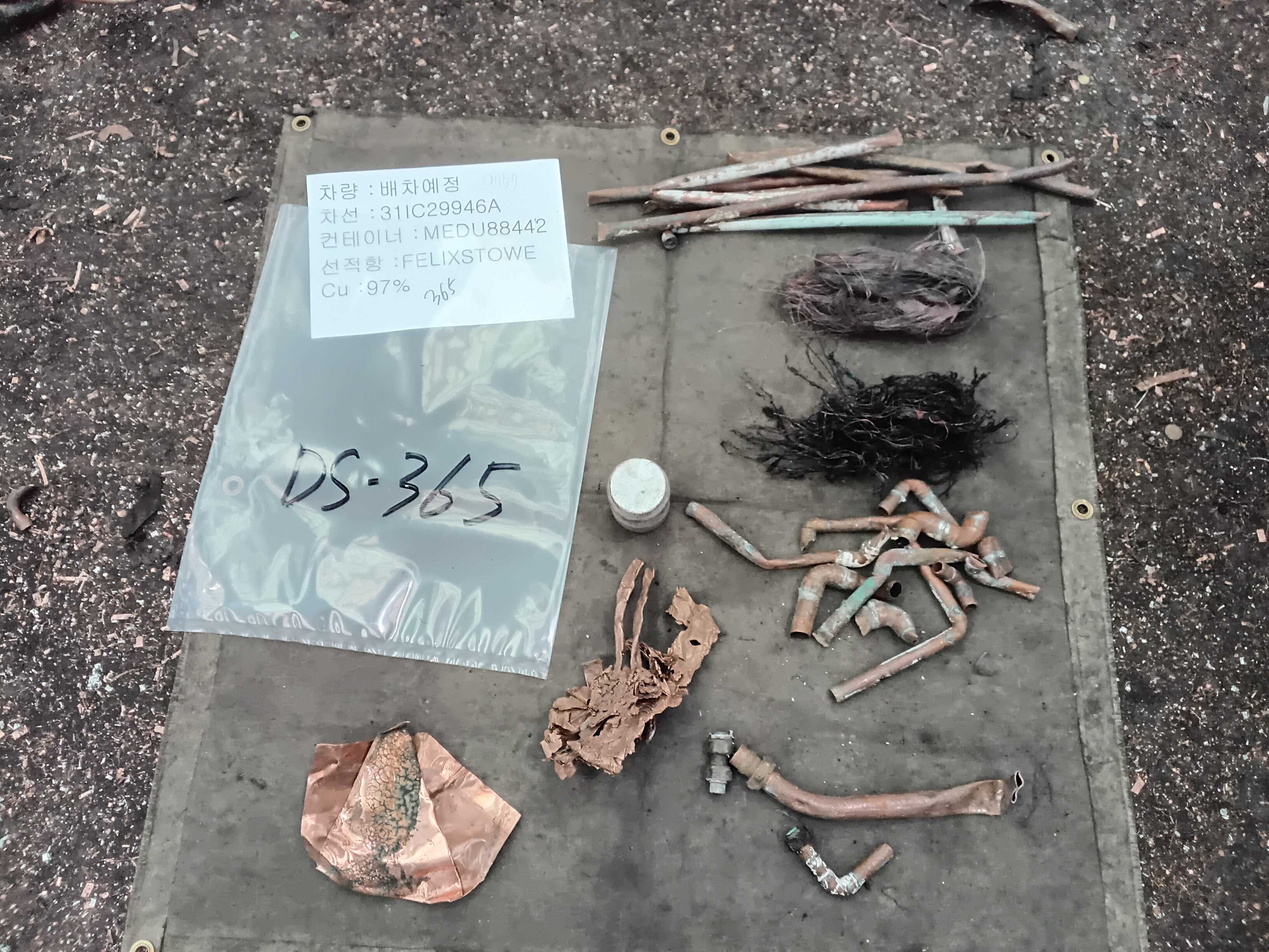Brass: (708, 733, 736, 794)
Brass_Attach_70: (730, 744, 1029, 818), (784, 826, 895, 900)
Burnt_Wire: (719, 346, 1000, 478), (779, 233, 985, 338)
Copper_Plates_93: (302, 721, 522, 905), (541, 557, 720, 780)
Painted_Tubes_98: (587, 128, 905, 204), (658, 210, 1049, 250)
